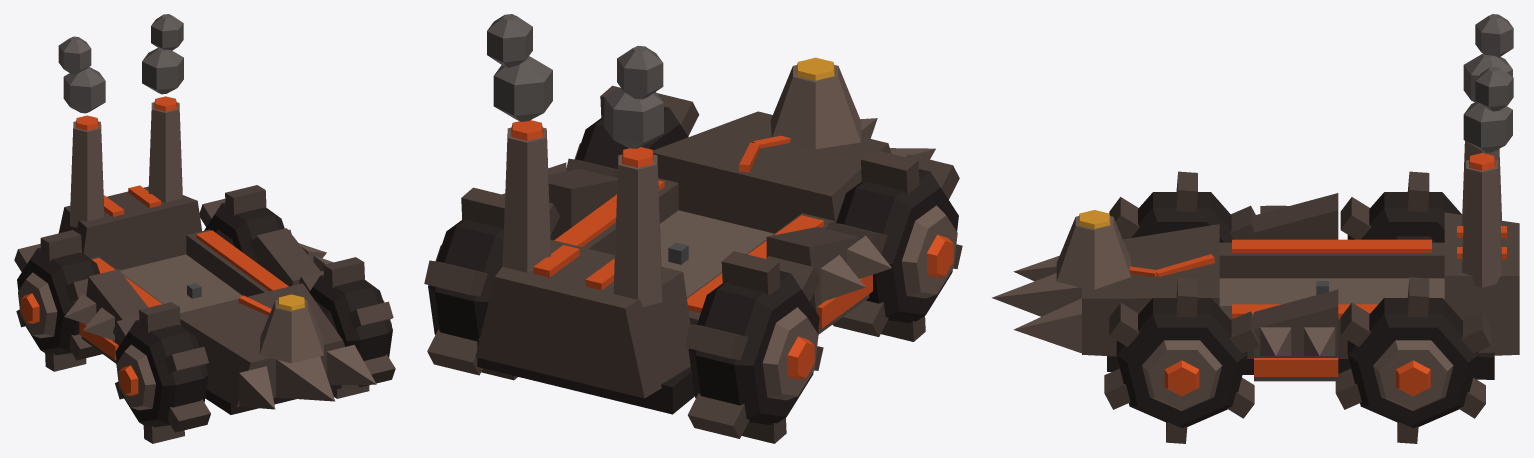
Rendered from kart-volcano.glb.
3 views of the same model, side by side, from view 1: azimuth 30°, elevation 25°; view 2: azimuth 150°, elevation 25°; view 3: azimuth 270°, elevation 25° (orthographic). The views are drawn at different scales.
Visible parts, largest first — view 1: kart-volcano, wheel-front-right, wheel-back-right, wheel-front-left, wheel-back-left; view 2: kart-volcano, wheel-back-right, wheel-front-right, wheel-back-left, wheel-front-left; view 3: kart-volcano, wheel-back-left, wheel-front-left, wheel-front-right, wheel-back-right.
Part boxes in pixels (<box>): kart-volcano: <box>58,14,376,414</box>; wheel-front-right: <box>113,302,210,443</box>; wheel-back-right: <box>14,230,102,371</box>; wheel-front-left: <box>299,257,395,398</box>; wheel-back-left: <box>199,185,291,262</box>; kart-volcano: <box>475,14,935,414</box>; wheel-back-right: <box>684,251,823,443</box>; wheel-front-right: <box>827,149,962,341</box>; wheel-back-left: <box>424,187,559,380</box>; wheel-front-left: <box>566,85,699,177</box>; kart-volcano: <box>992,14,1519,381</box>; wheel-back-left: <box>1335,277,1490,443</box>; wheel-front-left: <box>1104,277,1259,443</box>; wheel-front-right: <box>1109,171,1255,242</box>; wheel-back-right: <box>1340,171,1462,242</box>.
Bounding box in the file's own units: 1.14 × 1.2 × 1.69.
